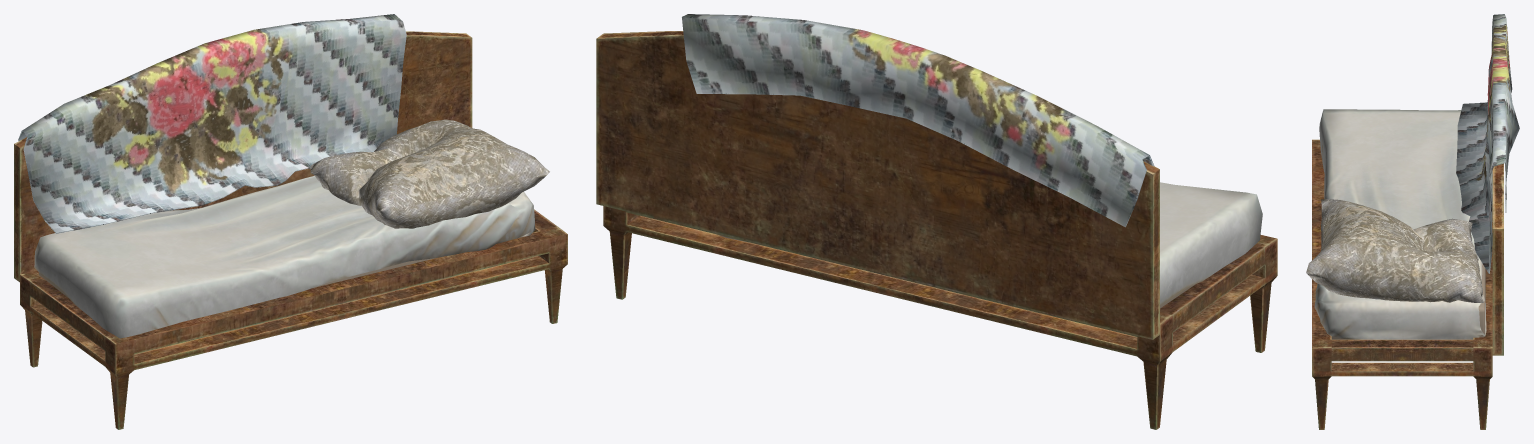
The model's file is vintage_day_bed.glb.
The picture shows the model from 3 angles, left to right: view 1: azimuth 30°, elevation 25°; view 2: azimuth 150°, elevation 25°; view 3: azimuth 270°, elevation 25°; orthographic projection. The views are drawn at different scales.
Parts seen in each view (by area): view 1: vintage_day_bed; view 2: vintage_day_bed; view 3: vintage_day_bed.
Part boxes in pixels (left/top/right/bottom): vintage_day_bed: left=14, top=14, right=567, bottom=429; vintage_day_bed: left=596, top=14, right=1277, bottom=429; vintage_day_bed: left=1306, top=14, right=1519, bottom=429.
Size of the model in its own units: 1.97 by 1.13 by 0.8548.
Materials: 1 (1 with a texture image).
